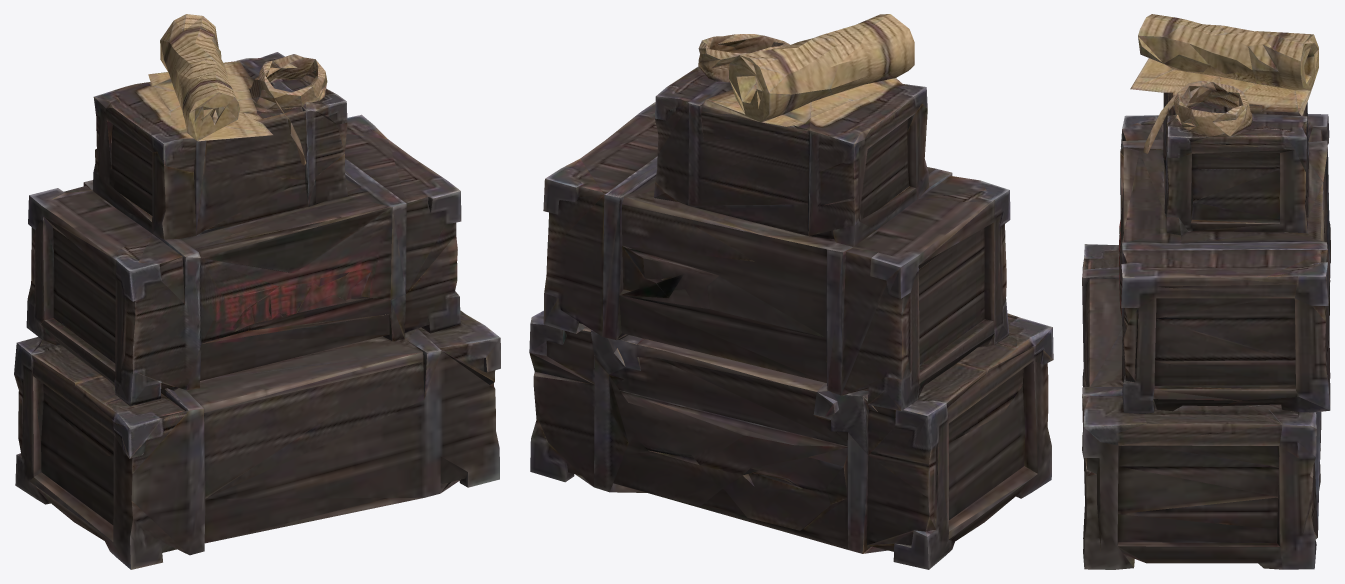
The model's file is crateStack.glb.
3 renders of one model, left to right at view 1: azimuth 30°, elevation 25°; view 2: azimuth 150°, elevation 25°; view 3: azimuth 270°, elevation 25°, orthographic. The views are drawn at different scales.
Bounding box in the file's own units: 1.71 × 1.89 × 0.9778.
Materials: 1 (1 with a texture image).
